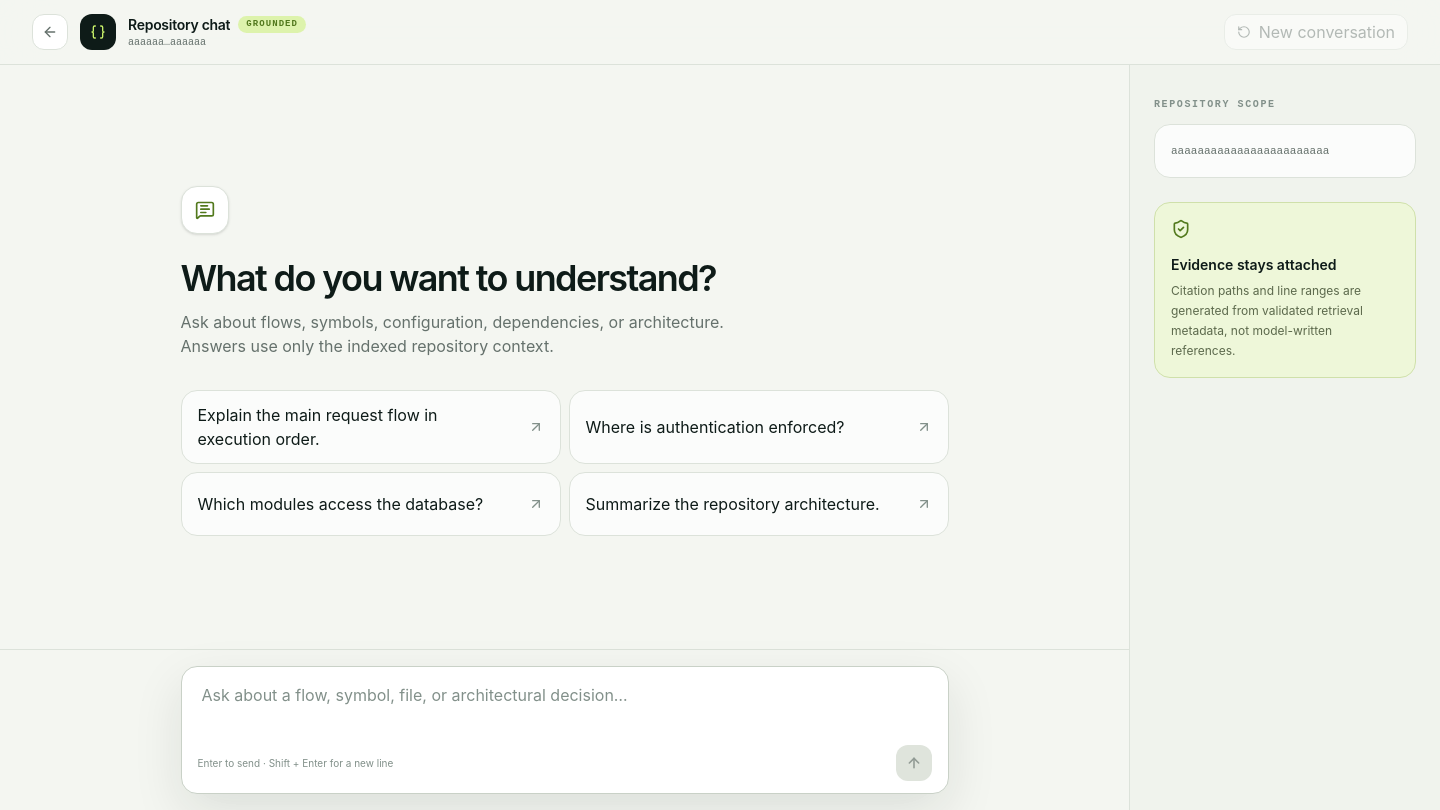
Test: RepositoryChat › starts from a guide question and can clear the conversation
Click the button "Where is authentication enforced?". click: (758,427)
box: top-left (568, 390), bottom-right (948, 464)
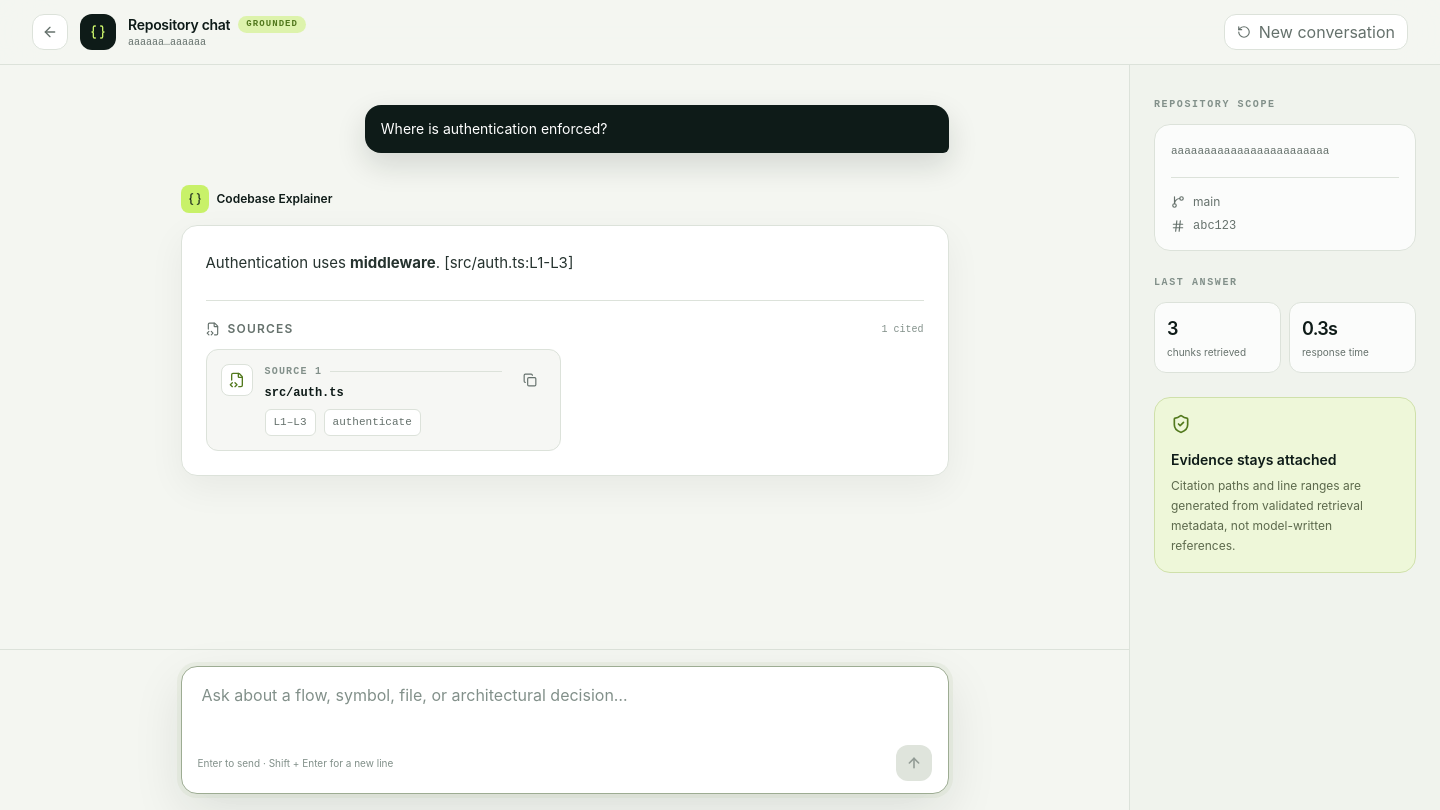
Now the text "middleware" is shown, box top-left (350, 253), bottom-right (436, 272)
Click the button "New conversation". click: (1316,32)
box: top-left (1224, 14), bottom-right (1408, 50)
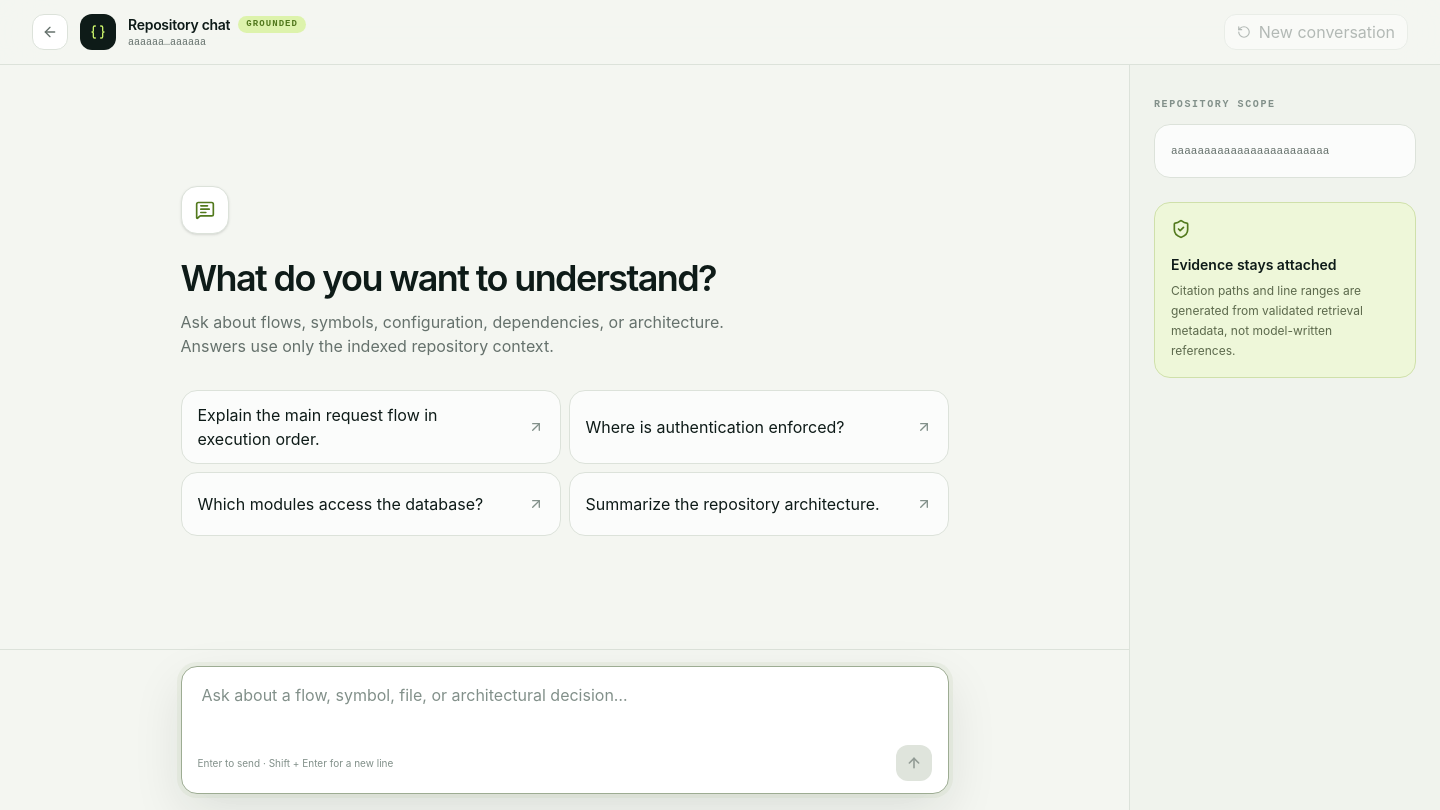
Now the heading "What do you want to understand?" is shown, box top-left (180, 258), bottom-right (756, 298)
Now the text "src/auth.ts" is gone
